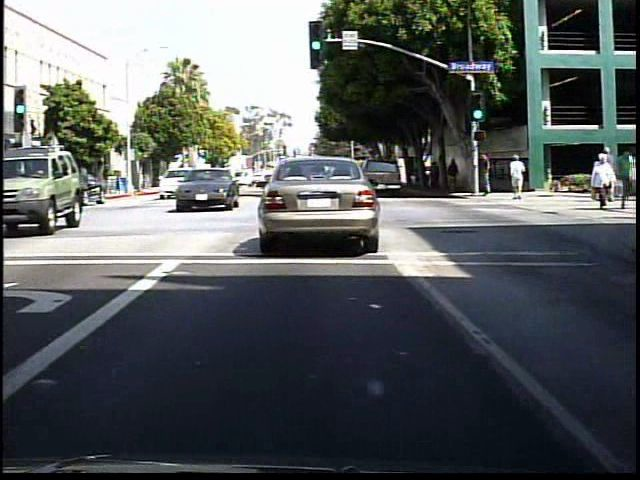person: (587, 151, 618, 209), (597, 143, 621, 206), (504, 150, 527, 202), (476, 148, 496, 204), (617, 146, 634, 211), (450, 157, 465, 193), (434, 159, 447, 192)
